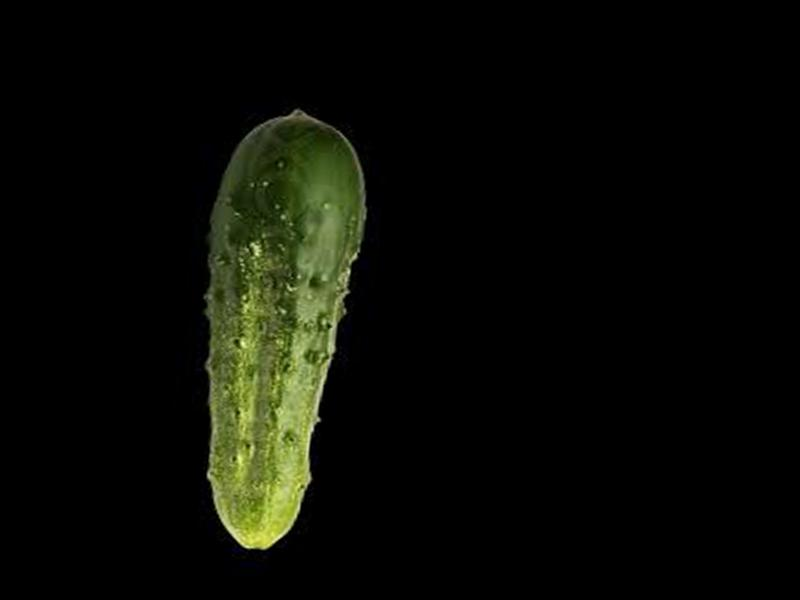Cucumber: (171, 101, 376, 556)
